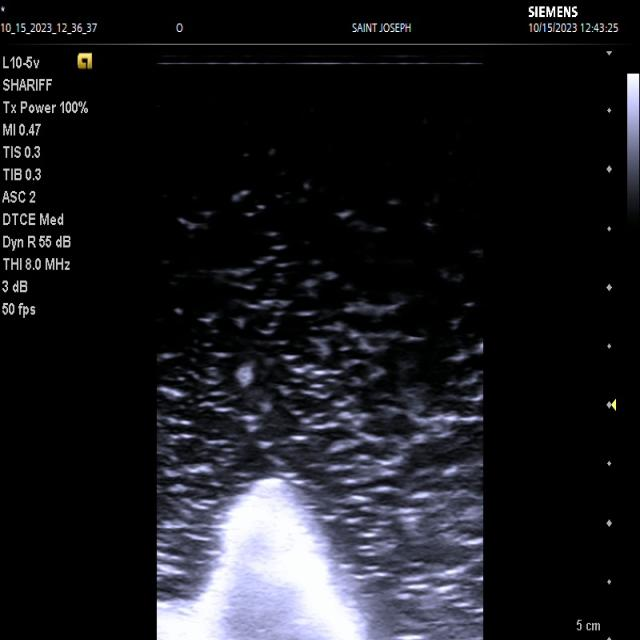tissue: (160, 478, 369, 640)
